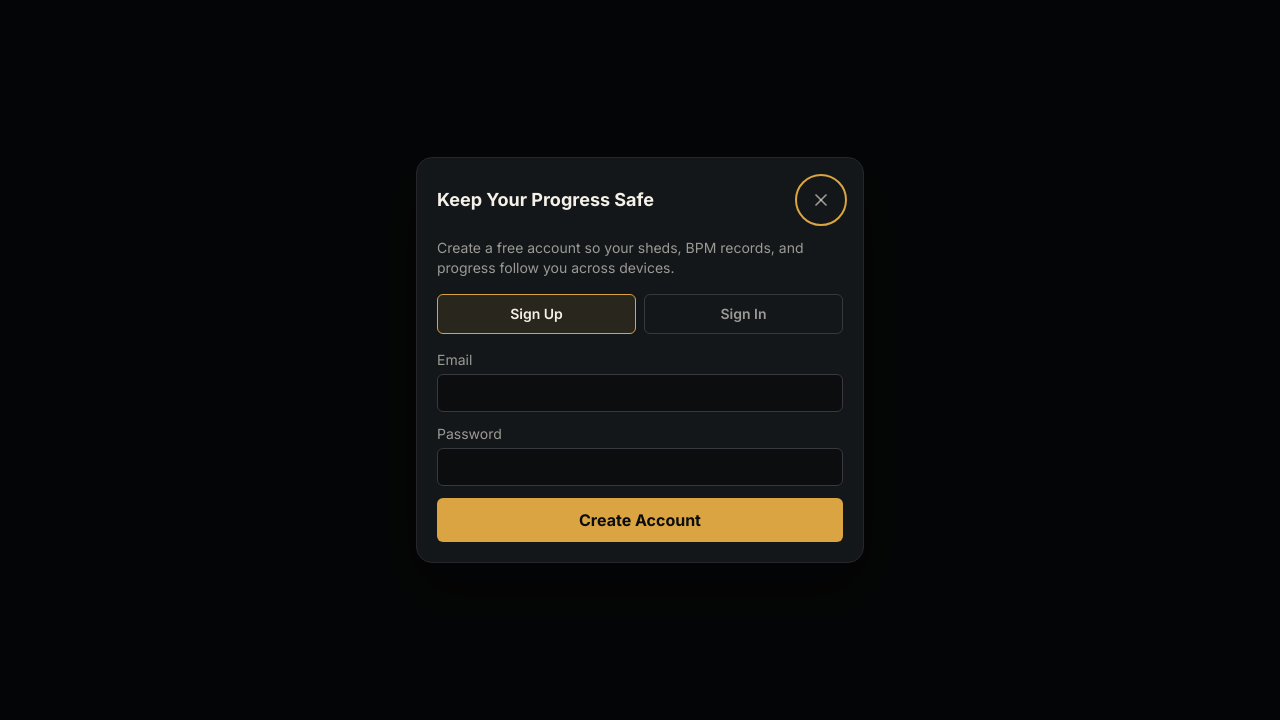
Scenario: AccountSheet — sign-up messaging matches whether a session actually exists › syncs and shows success when Supabase auto-confirms and a session exists
This screenshot has width=1280, height=720.
Type "a@b.com" into the field labelled "Email" at (640, 393), box [437,374,843,412]
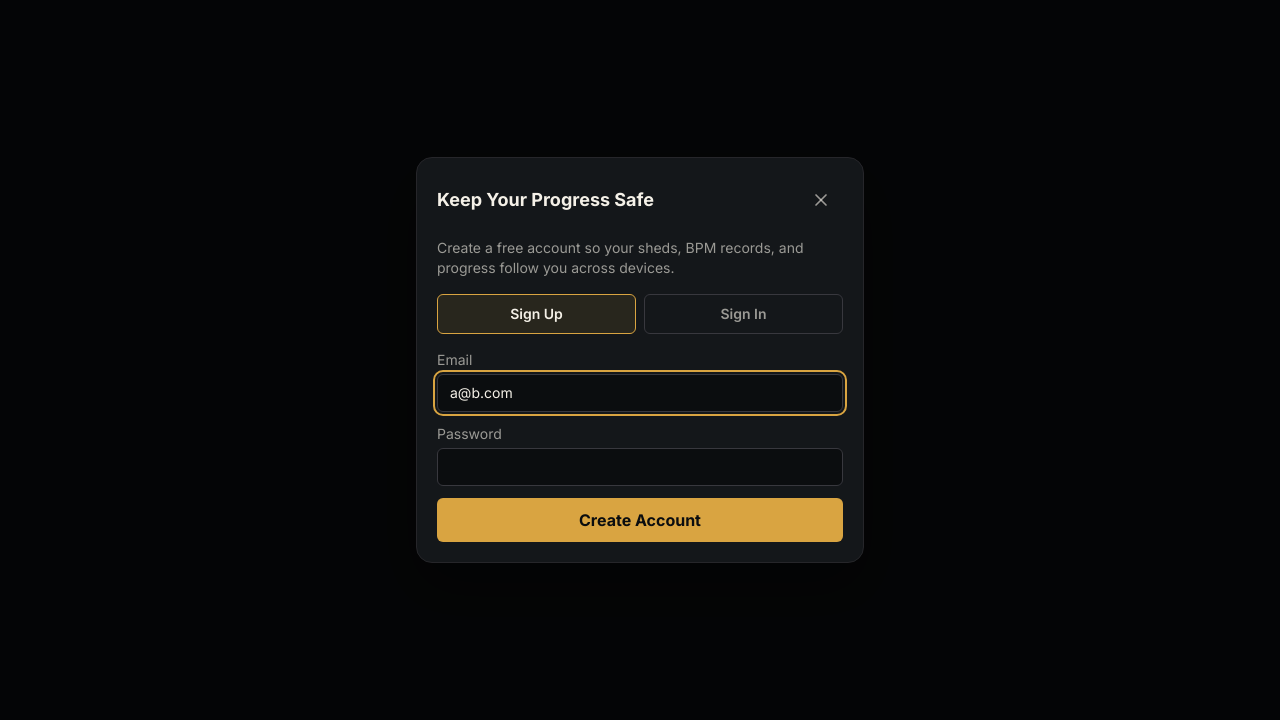
Type "password123" into the password field labelled "Password" at (640, 467), box [437,448,843,486]
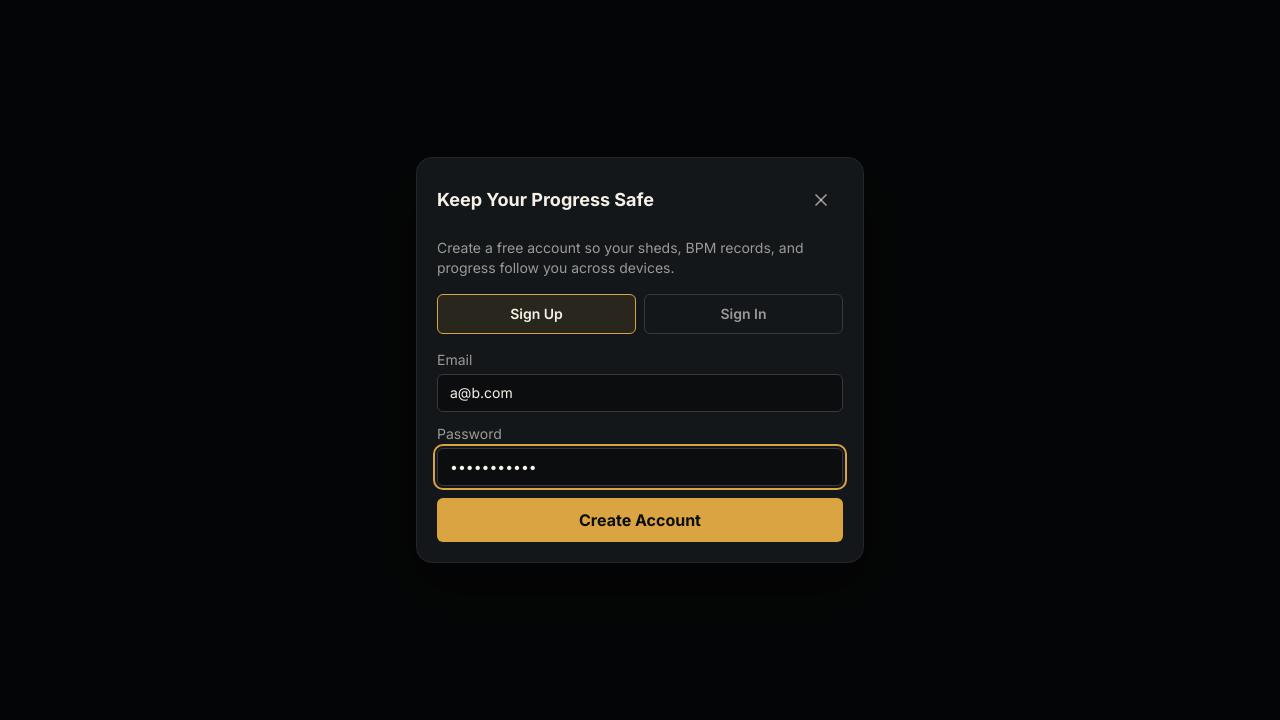
Click the button "Create Account" at (640, 520), box [437,498,843,542]
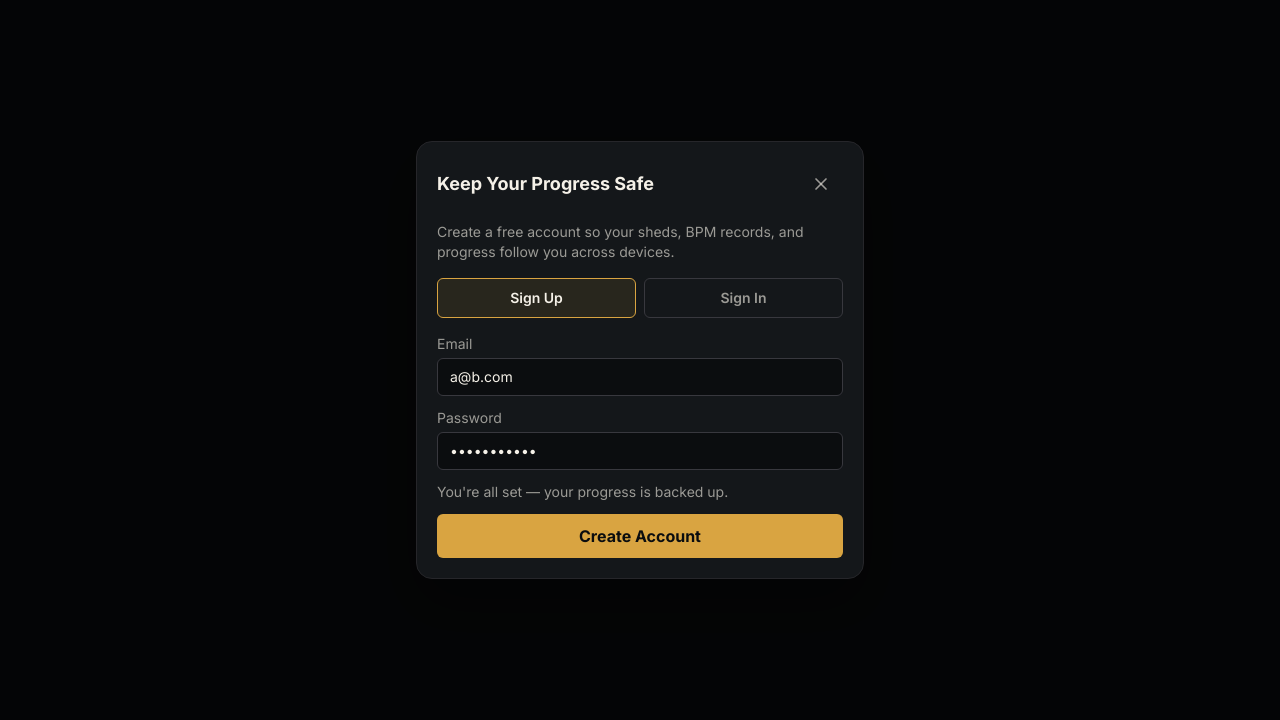
Check: the text "You're all set — your progress is backed up." is shown, box [437,483,728,500]
